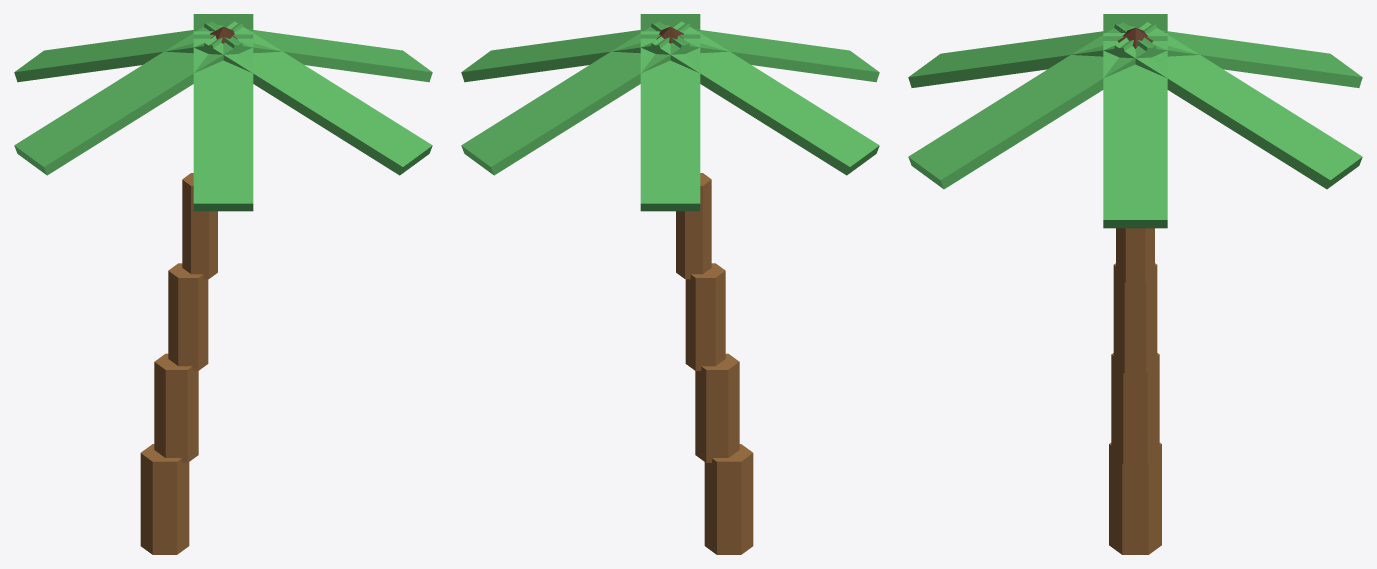
File: tree_palm.glb
The picture shows the model from 3 angles, left to right: view 1: azimuth 30°, elevation 25°; view 2: azimuth 150°, elevation 25°; view 3: azimuth 270°, elevation 25°; orthographic projection. The views are drawn at different scales.
Visible parts, largest first — view 1: tree_palm; view 2: tree_palm; view 3: tree_palm.
Part boxes in pixels (x1,y1,x2,y2): tree_palm: (14, 14, 432, 554); tree_palm: (461, 14, 879, 554); tree_palm: (908, 14, 1362, 554).
Bounding box in the file's own units: 1.66 × 2.06 × 1.55.
1 material, 1 textured.
